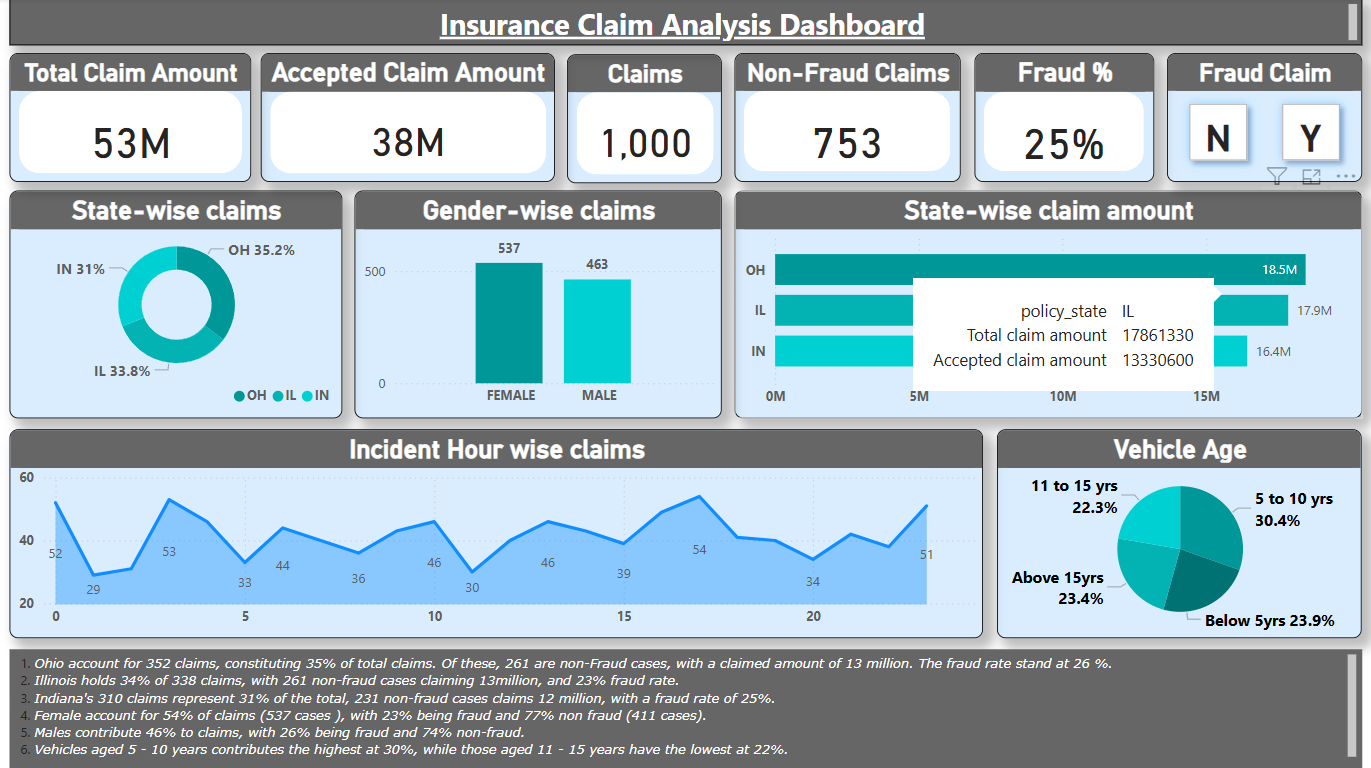

Layout of this report page (visuals, bound fields, positions):
{"tool":"powerbi","page":{"name":"Insurance Claim Dashboard","canvas":[1280,720],"ordinal":0},"visuals":[{"type":"cardVisual","title":"Claims","fields":{"Data":["CountNonNull(insurance.policy_number)"]},"box":[0,51,142,120],"z":0},{"type":"textbox","box":[0,0,1280.2,44.2],"z":1000},{"type":"cardVisual","title":"Non-Fraud Claims","fields":{"Data":["insurance.non_fraud_claims"]},"box":[153.5,51.2,212.8,119.8],"z":2000},{"type":"cardVisual","title":"Fraud %","fields":{"Data":["insurance.Per_fraud"]},"box":[893,51.2,167.4,119.8],"z":3000},{"type":"donutChart","title":"State-wise claims","fields":{"Category":["insurance.policy_state"],"Y":["CountNonNull(insurance.policy_number)"]},"box":[0,179,306,212],"z":4000},{"type":"cardVisual","title":"Total Claim Amount","fields":{"Data":["Sum(insurance.total_claim_amount)"]},"box":[653.5,51.2,223.3,119.8],"z":5000},{"type":"cardVisual","title":"Accepted Claim Amount","fields":{"Data":["insurance.accepted_claim_amt"]},"box":[374.4,51.2,266.3,119.8],"z":6000},{"type":"barChart","title":"State-wise claim amount","fields":{"Category":["insurance.policy_state"],"Y":["Sum(insurance.total_claim_amount)"]},"box":[683.7,179.1,586,211.6],"z":7000},{"type":"columnChart","title":"Gender-wise claims","fields":{"Category":["insurance.insured_sex"],"Y":["CountNonNull(insurance.policy_number)"]},"box":[331.4,179.1,322.1,211.6],"z":8000},{"type":"stackedAreaChart","title":"Incident Hour wise claims","fields":{"Category":["insurance.incident_hour_of_the_day"],"Y":["CountNonNull(insurance.policy_number)"]},"box":[0,401.2,917.4,194.2],"z":9000},{"type":"pieChart","title":"Vehicle Age","fields":{"Category":["insurance.Vehicle_Age_group"],"Y":["CountNonNull(insurance.policy_number)"]},"box":[937.2,401.2,332.6,194.2],"z":10000},{"type":"textbox","box":[0,606,1280,114],"z":11000},{"type":"advancedSlicerVisual","title":"Fraud Claim","fields":{"Values":["insurance.fraud_reported"]},"box":[1076.7,51.2,203.5,119.8],"z":12000}]}

Visuals, with their boxes in screenshot pixels (x1, y1, x2, y2), scaled from the page's 1280x720 canvas onto the 1371x768 screenshot:
"Claims" cardVisual: {"left": 0, "top": 54, "right": 152, "bottom": 182}
textbox: {"left": 0, "top": 0, "right": 1370, "bottom": 47}
"Non-Fraud Claims" cardVisual: {"left": 164, "top": 55, "right": 392, "bottom": 182}
"Fraud %" cardVisual: {"left": 956, "top": 55, "right": 1136, "bottom": 182}
"State-wise claims" donutChart: {"left": 0, "top": 191, "right": 328, "bottom": 417}
"Total Claim Amount" cardVisual: {"left": 700, "top": 55, "right": 939, "bottom": 182}
"Accepted Claim Amount" cardVisual: {"left": 401, "top": 55, "right": 686, "bottom": 182}
"State-wise claim amount" barChart: {"left": 732, "top": 191, "right": 1360, "bottom": 417}
"Gender-wise claims" columnChart: {"left": 355, "top": 191, "right": 700, "bottom": 417}
"Incident Hour wise claims" stackedAreaChart: {"left": 0, "top": 428, "right": 983, "bottom": 635}
"Vehicle Age" pieChart: {"left": 1004, "top": 428, "right": 1360, "bottom": 635}
textbox: {"left": 0, "top": 646, "right": 1370, "bottom": 767}
"Fraud Claim" advancedSlicerVisual: {"left": 1153, "top": 55, "right": 1370, "bottom": 182}
